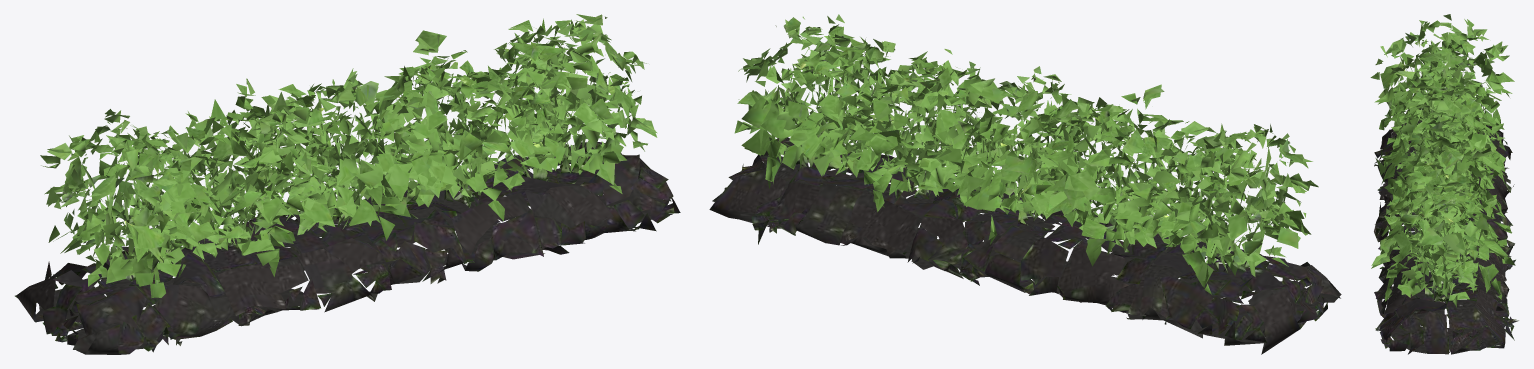
Rendered from greens-row.glb.
The picture shows the model from 3 angles, left to right: view 1: azimuth 30°, elevation 25°; view 2: azimuth 150°, elevation 25°; view 3: azimuth 270°, elevation 25°; orthographic projection. The views are drawn at different scales.
Parts seen in each view (by area): view 1: Mesh_0; view 2: Mesh_0; view 3: Mesh_0.
Part boxes in pixels (x1,y1,x2,y2): Mesh_0: (15, 14, 680, 354); Mesh_0: (709, 14, 1341, 354); Mesh_0: (1370, 14, 1518, 354).
Size of the model in its own units: 1.36 by 0.45 by 0.389.
Materials: 1 (1 with a texture image).
